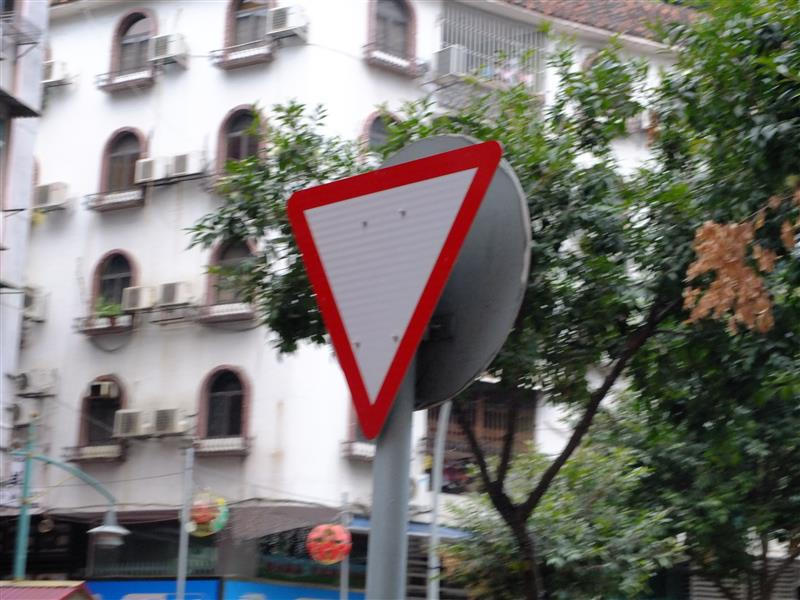yield: (259, 126, 534, 449)
